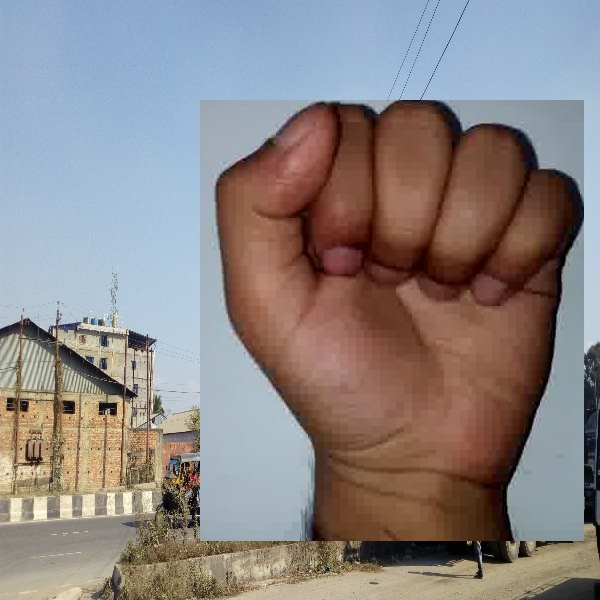A: (200, 100, 584, 541)
